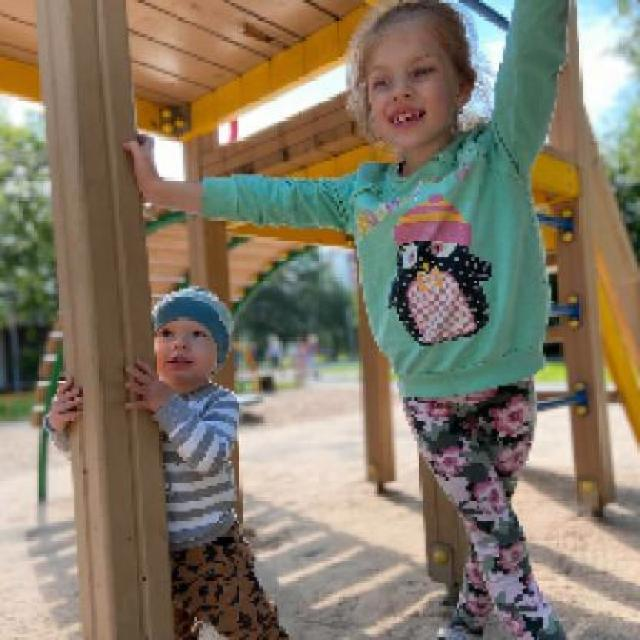child: (120, 0, 571, 637), (40, 282, 291, 638)
